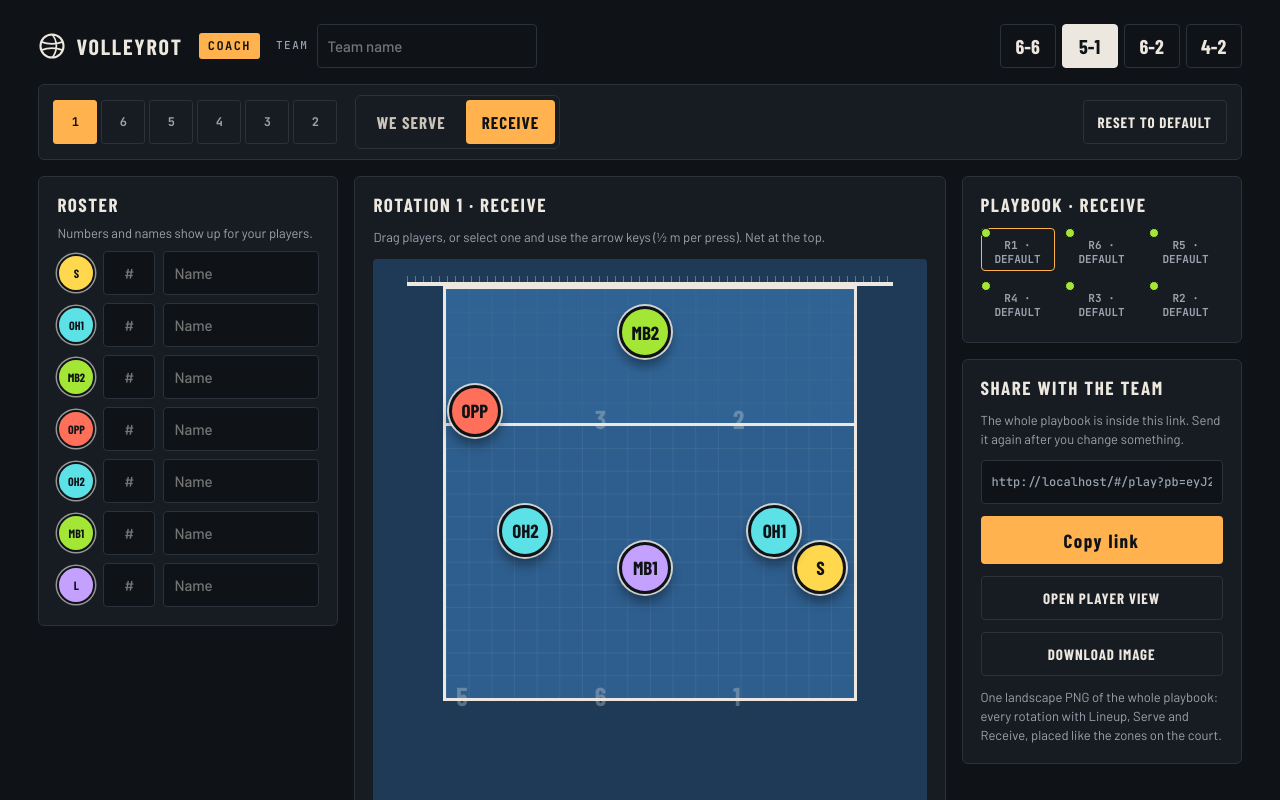
coach view › rotation buttons switch the edited rotation
Click the button named "Rotation 4" at point(219, 122), box [197,100,241,144]
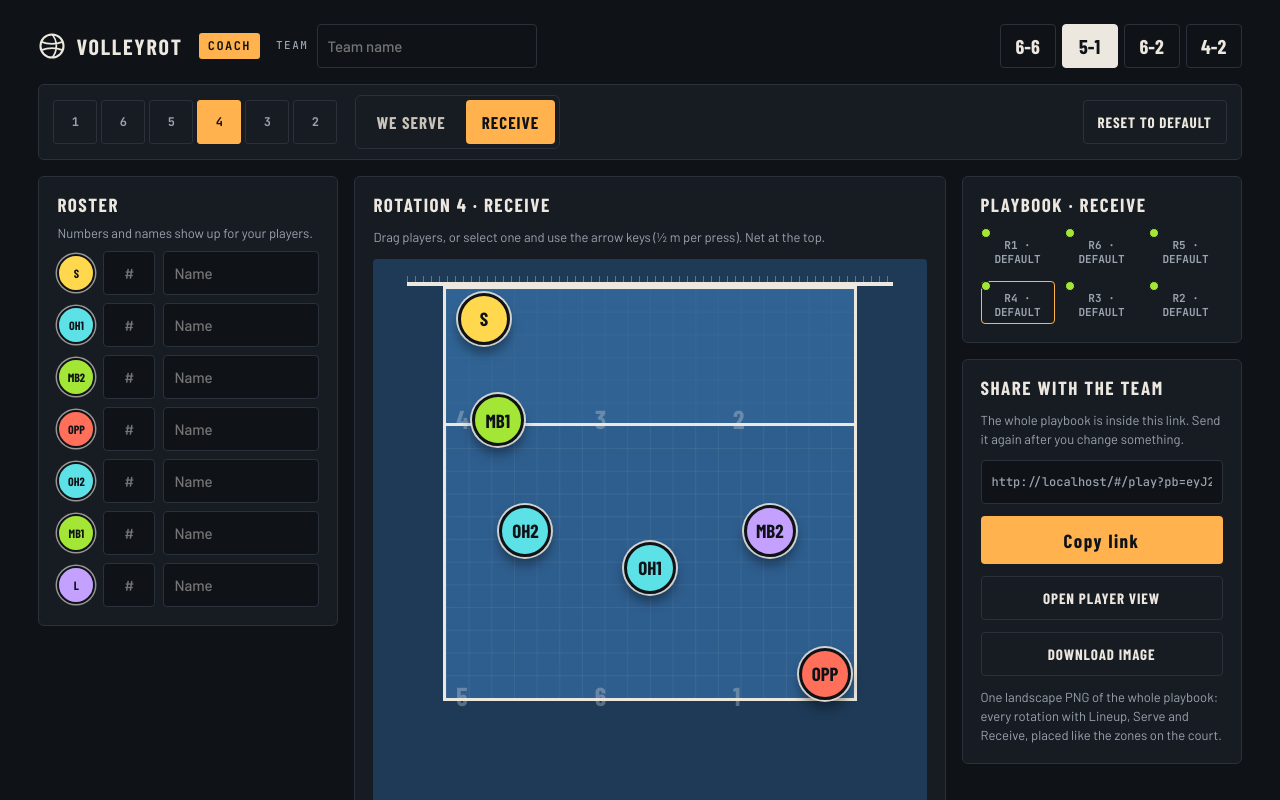
expect the heading "Rotation 4 · Receive" is shown: met, box [373,193,551,216]
